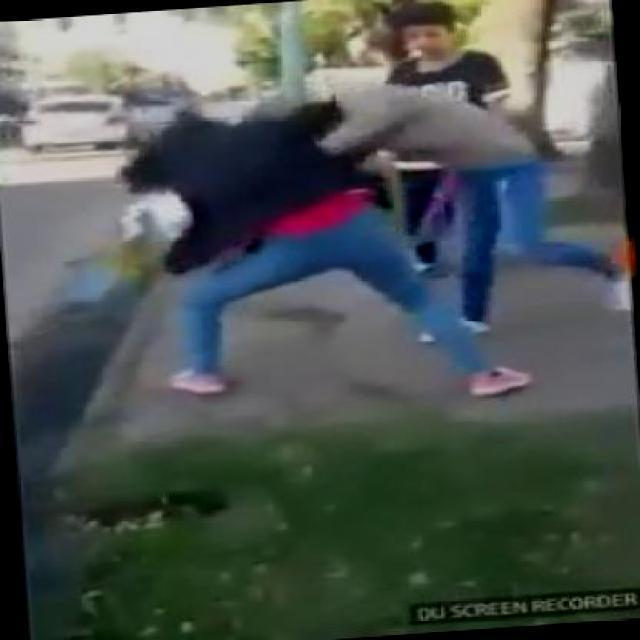fight: (123, 69, 572, 311)
